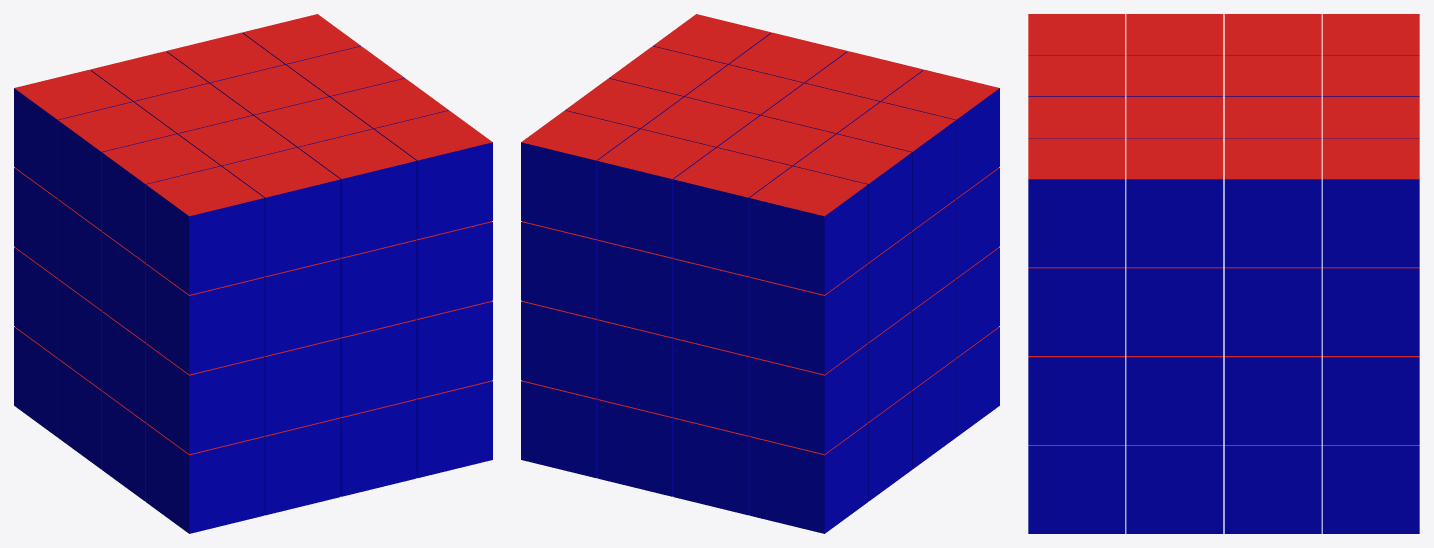
Rendered from volume-kubus-4x4x4.glb.
The picture shows the model from 3 angles, left to right: view 1: azimuth 30°, elevation 25°; view 2: azimuth 150°, elevation 25°; view 3: azimuth 270°, elevation 25°; orthographic projection. The views are drawn at different scales.
Parts seen in each view (by area): view 1: Cube.043, Cube.019, Cube.036, Cube.012, Cube.050, Cube.044, Cube.049, Cube.041, Cube.040, Cube.042, Cube.003, Cube.020 (+25 smaller); view 2: Cube.042, Cube.018, Cube.037, Cube.013, Cube.051, Cube.045, Cube.048, Cube.040, Cube.041, Cube.043, Cube.002, Cube.021 (+25 smaller); view 3: Cube.044, Cube.045, Cube.046, Cube.047, Cube.008, Cube.009, Cube.010, Cube.011, Cube.020, Cube.021, Cube.022, Cube.023 (+16 smaller).
Part boxes in pixels (x1=…): Cube.043: x1=146, y1=166, x2=264, y2=294; Cube.019: x1=146, y1=343, x2=264, y2=454; Cube.036: x1=146, y1=264, x2=264, y2=374; Cube.012: x1=146, y1=423, x2=264, y2=533; Cube.050: x1=222, y1=148, x2=340, y2=276; Cube.044: x1=374, y1=110, x2=492, y2=238; Cube.049: x1=298, y1=129, x2=416, y2=257; Cube.041: x1=58, y1=102, x2=176, y2=230; Cube.040: x1=102, y1=134, x2=220, y2=262; Cube.042: x1=14, y1=70, x2=132, y2=198; Cube.003: x1=264, y1=417, x2=340, y2=515; Cube.020: x1=416, y1=301, x2=492, y2=398; Cube.042: x1=749, y1=166, x2=867, y2=294; Cube.018: x1=749, y1=343, x2=867, y2=454; Cube.037: x1=749, y1=264, x2=867, y2=374; Cube.013: x1=749, y1=423, x2=867, y2=533; Cube.051: x1=673, y1=148, x2=791, y2=276; Cube.045: x1=521, y1=110, x2=639, y2=238; Cube.048: x1=597, y1=129, x2=715, y2=257; Cube.040: x1=837, y1=102, x2=955, y2=230; Cube.041: x1=793, y1=134, x2=911, y2=262; Cube.043: x1=881, y1=70, x2=999, y2=198; Cube.002: x1=673, y1=417, x2=749, y2=515; Cube.021: x1=521, y1=301, x2=597, y2=398; Cube.044: x1=1028, y1=138, x2=1125, y2=267; Cube.045: x1=1322, y1=138, x2=1419, y2=267; Cube.046: x1=1224, y1=138, x2=1321, y2=267; Cube.047: x1=1126, y1=138, x2=1223, y2=267; Cube.008: x1=1126, y1=445, x2=1223, y2=533; Cube.009: x1=1224, y1=445, x2=1321, y2=533; Cube.010: x1=1322, y1=445, x2=1419, y2=533; Cube.011: x1=1028, y1=445, x2=1125, y2=533; Cube.020: x1=1028, y1=356, x2=1125, y2=444; Cube.021: x1=1322, y1=356, x2=1419, y2=444; Cube.022: x1=1224, y1=356, x2=1321, y2=444; Cube.023: x1=1126, y1=356, x2=1223, y2=444.
Bounding box in the file's own units: 8.08 × 8.08 × 8.08.
